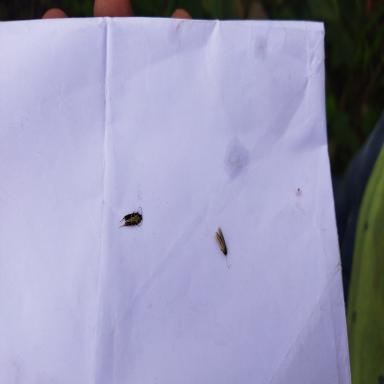pbw: (214, 226, 231, 268), (119, 206, 142, 228)
